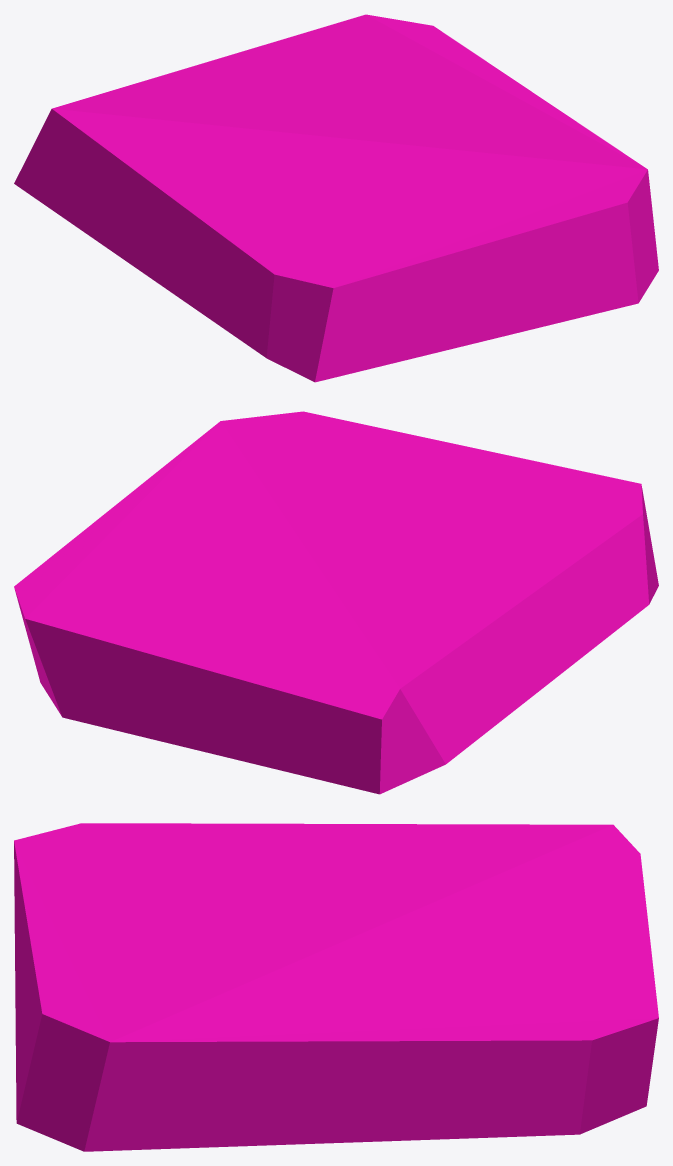
Rendered from study_blanket_4_meshCollider.fbx.
3 views of the same model, one above another, from view 1: azimuth 30°, elevation 25°; view 2: azimuth 150°, elevation 25°; view 3: azimuth 270°, elevation 25° (orthographic). The views are drawn at different scales.
Visible parts, largest first — view 1: study_blanket_4_meshCollider; view 2: study_blanket_4_meshCollider; view 3: study_blanket_4_meshCollider.
Part boxes in pixels (<box>): study_blanket_4_meshCollider: <box>14,14,658,382</box>; study_blanket_4_meshCollider: <box>14,411,658,794</box>; study_blanket_4_meshCollider: <box>14,823,658,1151</box>.
Size of the model in its own units: 26.15 by 5.49 by 29.3.
